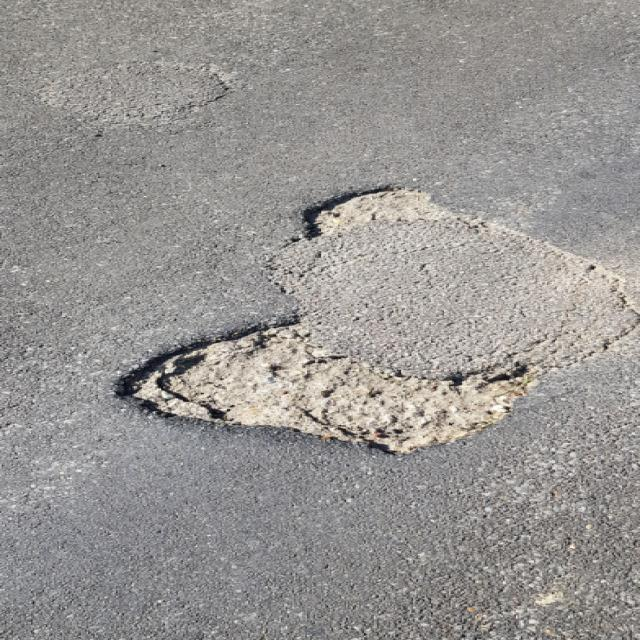pothole: (109, 315, 539, 460), (288, 184, 461, 237)
